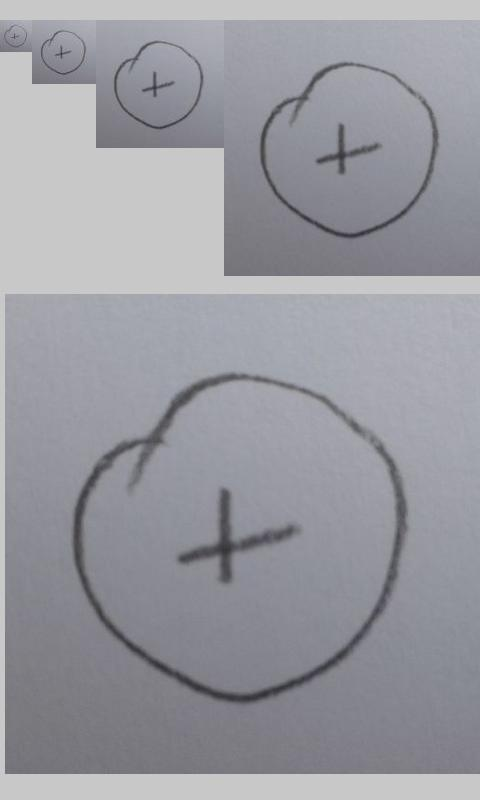button: (71, 373, 407, 705), (259, 62, 439, 239), (113, 40, 205, 130), (40, 29, 86, 75), (3, 24, 28, 48)
